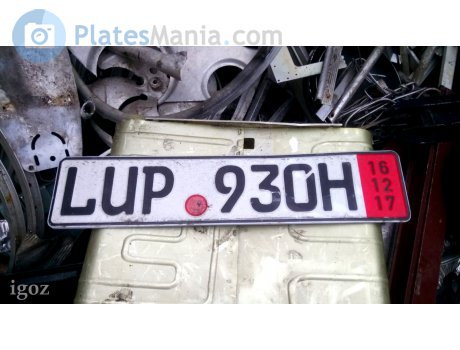License Plates: (60, 163, 352, 212)
